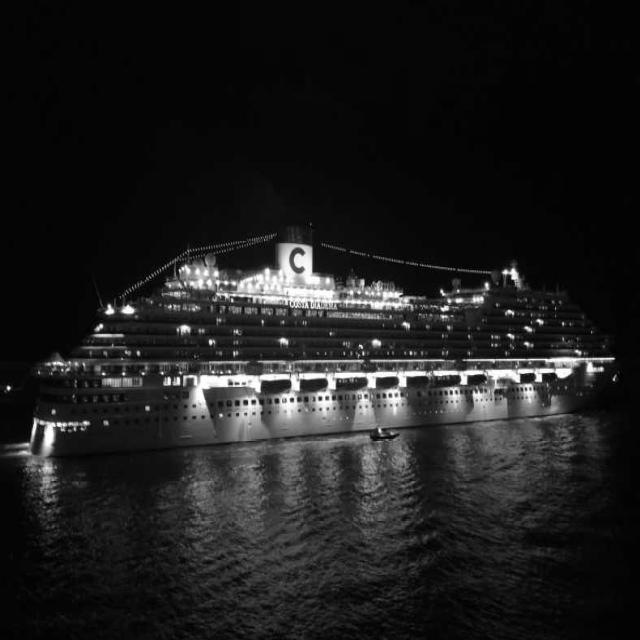cruises: (26, 222, 618, 459)
